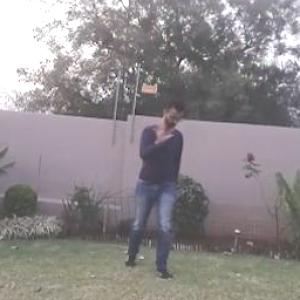follow_hand: (150, 118, 175, 146)
